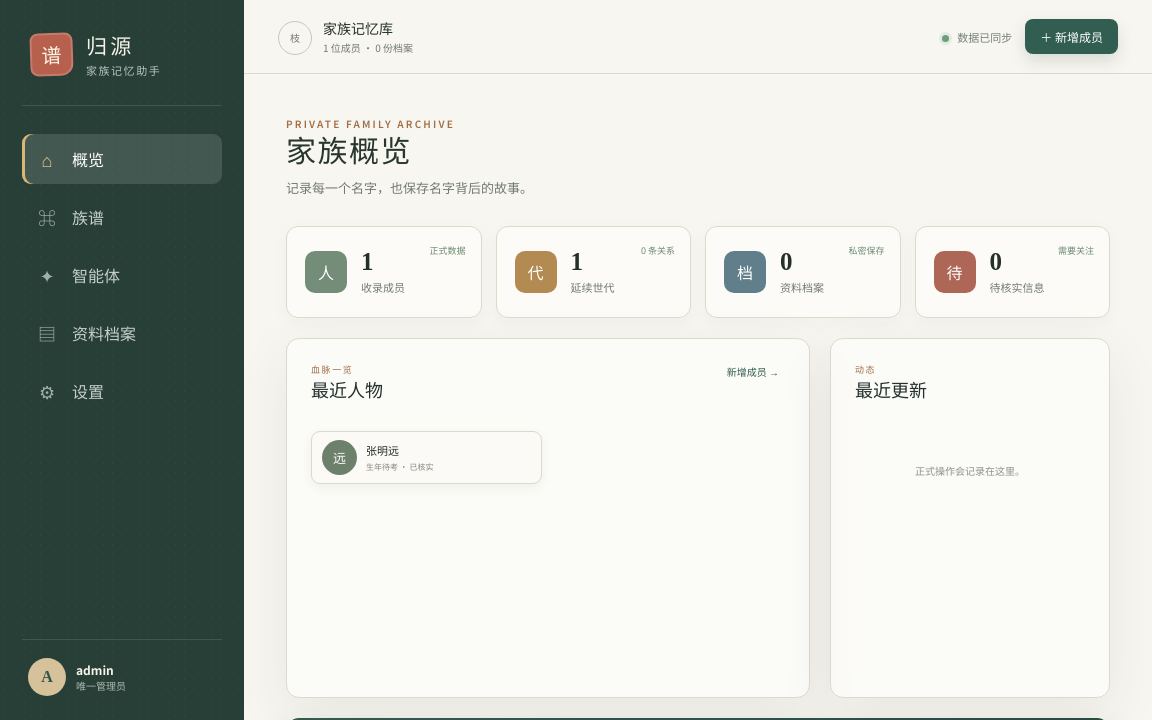
归源家族记忆助手 › 智能体草稿确认前不改变人数，确认后重新加载成员
The width and height of the screenshot is (1152, 720).
Click the button "✦ 智能体".
click(122, 275)  # box [22,250,222,300]
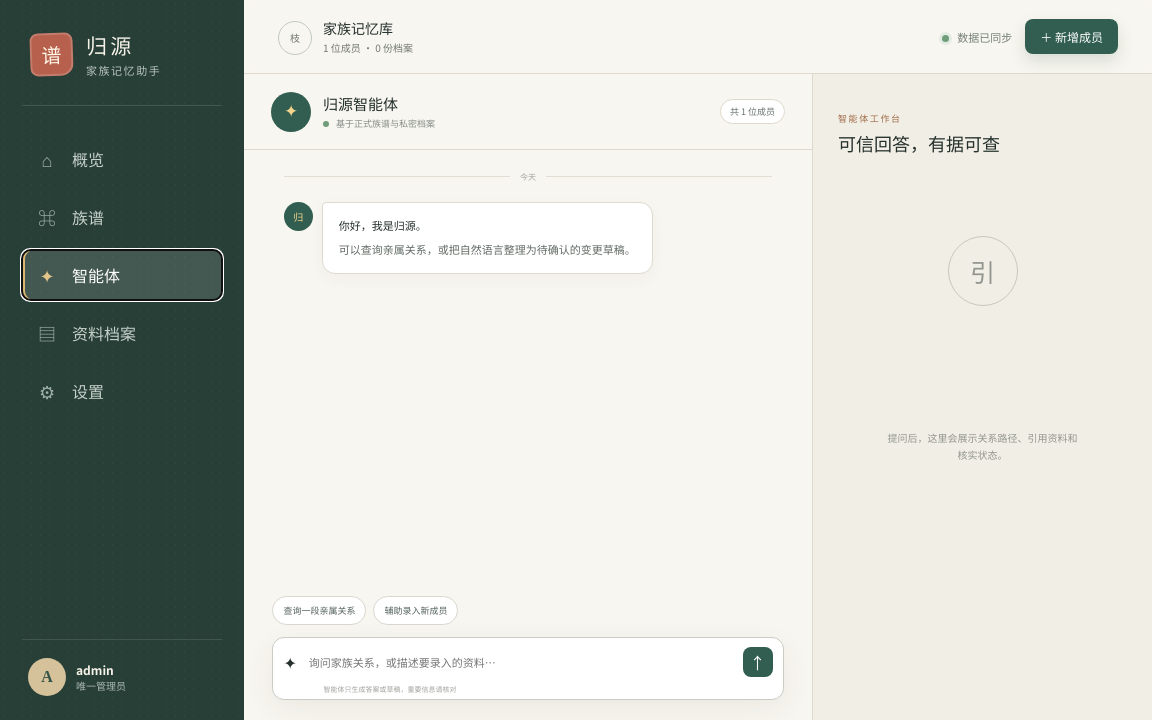
Type "新增张明远的儿子张予安" into the field named "向归源提问".
click(520, 662); type("新增张明远的儿子张予安")  # box [305,650,735,674]
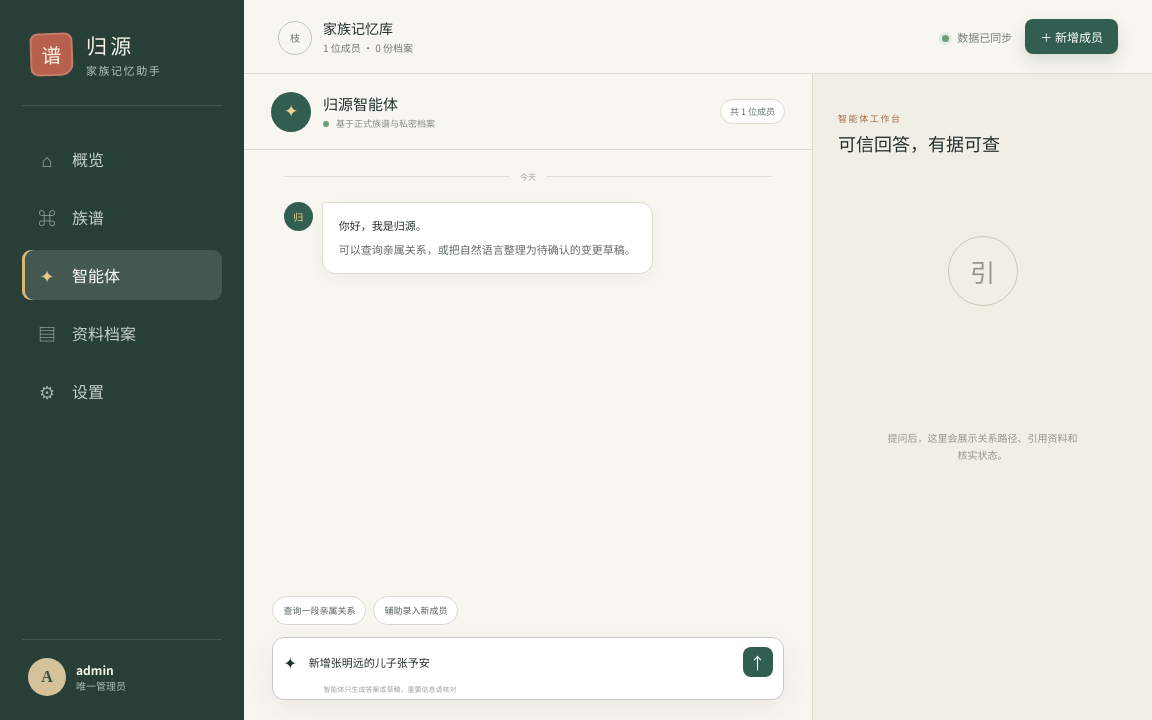
Click the button named "发送".
click(758, 662)  # box [743,647,773,677]
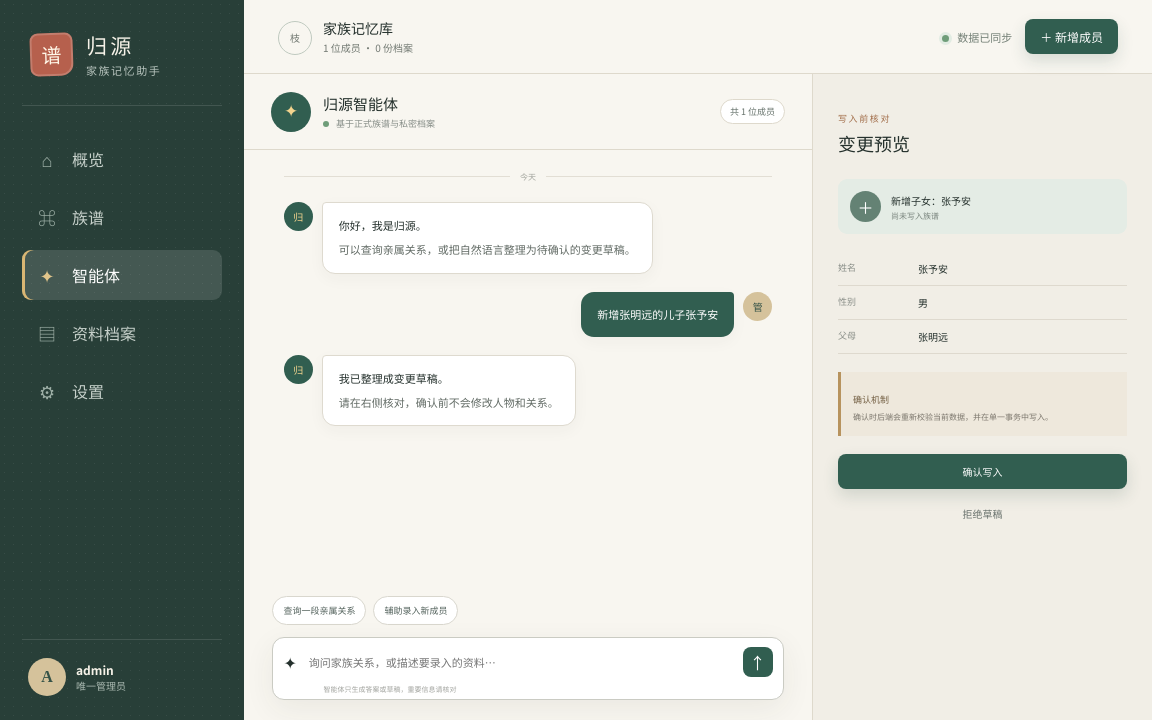
Now the text "共 1 位成员" is shown, box [720,99,785,124]
Now the heading "变更预览" is shown, box [838,135,910,155]
Click the button "确认写入".
click(982, 472)  # box [838,454,1127,489]
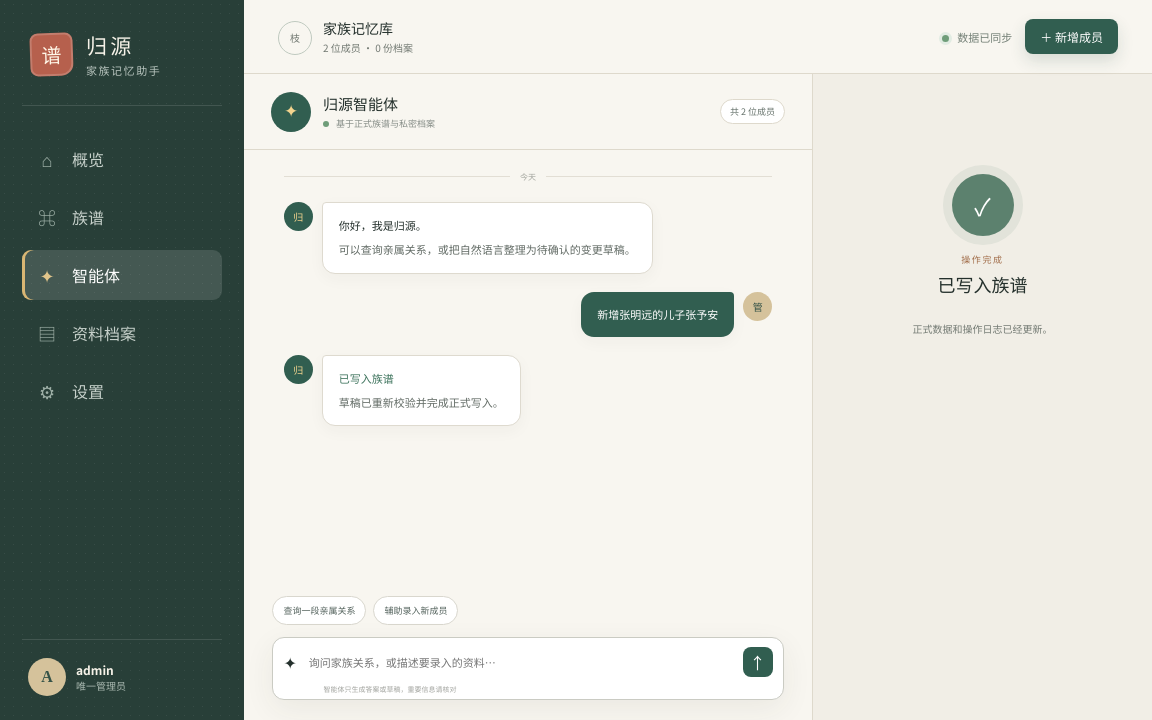
Now the heading "已写入族谱" is shown, box [938,276,1028,296]
Now the text "共 2 位成员" is shown, box [720,99,785,124]
